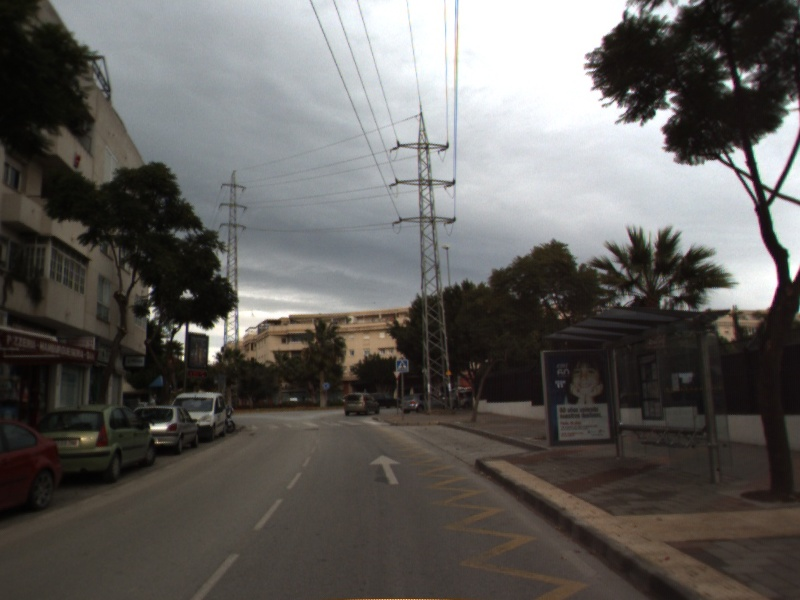STRAIGHT: (367, 453, 403, 486)
